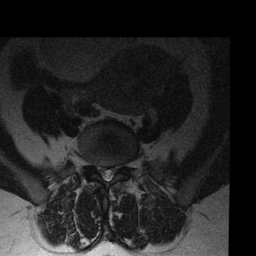CCS_severe_stenosis: (105, 160, 110, 186)
LFS_stenosis: (116, 158, 122, 175)
LLS_normal: (110, 162, 116, 182)
RFS_severe_stenosis: (92, 157, 99, 175)
RLS_normal: (99, 161, 105, 181)
